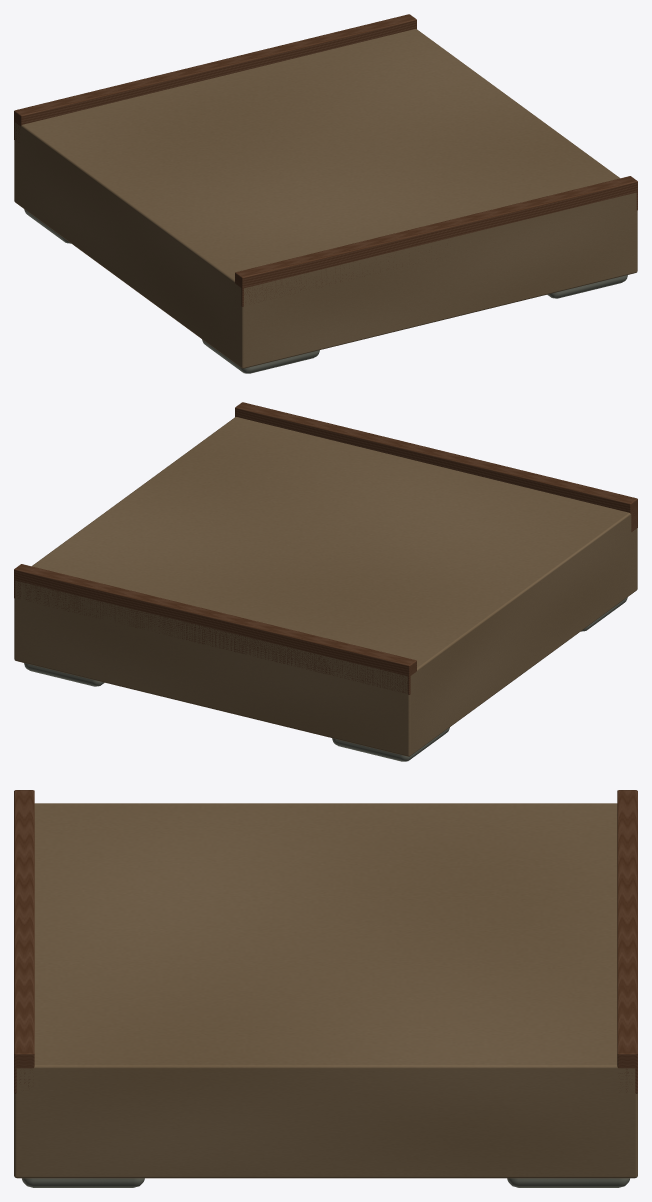
Rendered from foundation.glb.
3 views of the same model, one above another, from view 1: azimuth 30°, elevation 25°; view 2: azimuth 150°, elevation 25°; view 3: azimuth 270°, elevation 25° (orthographic). The views are drawn at different scales.
Visible parts, largest first — view 1: foundation; view 2: foundation; view 3: foundation.
Part boxes in pixels (bbox=[...]): foundation: bbox=[14, 14, 637, 373]; foundation: bbox=[14, 402, 637, 761]; foundation: bbox=[14, 790, 637, 1187].
Bounding box in the file's own units: 1.8 × 0.45 × 1.8.
Materials: 3 (3 with a texture image).
